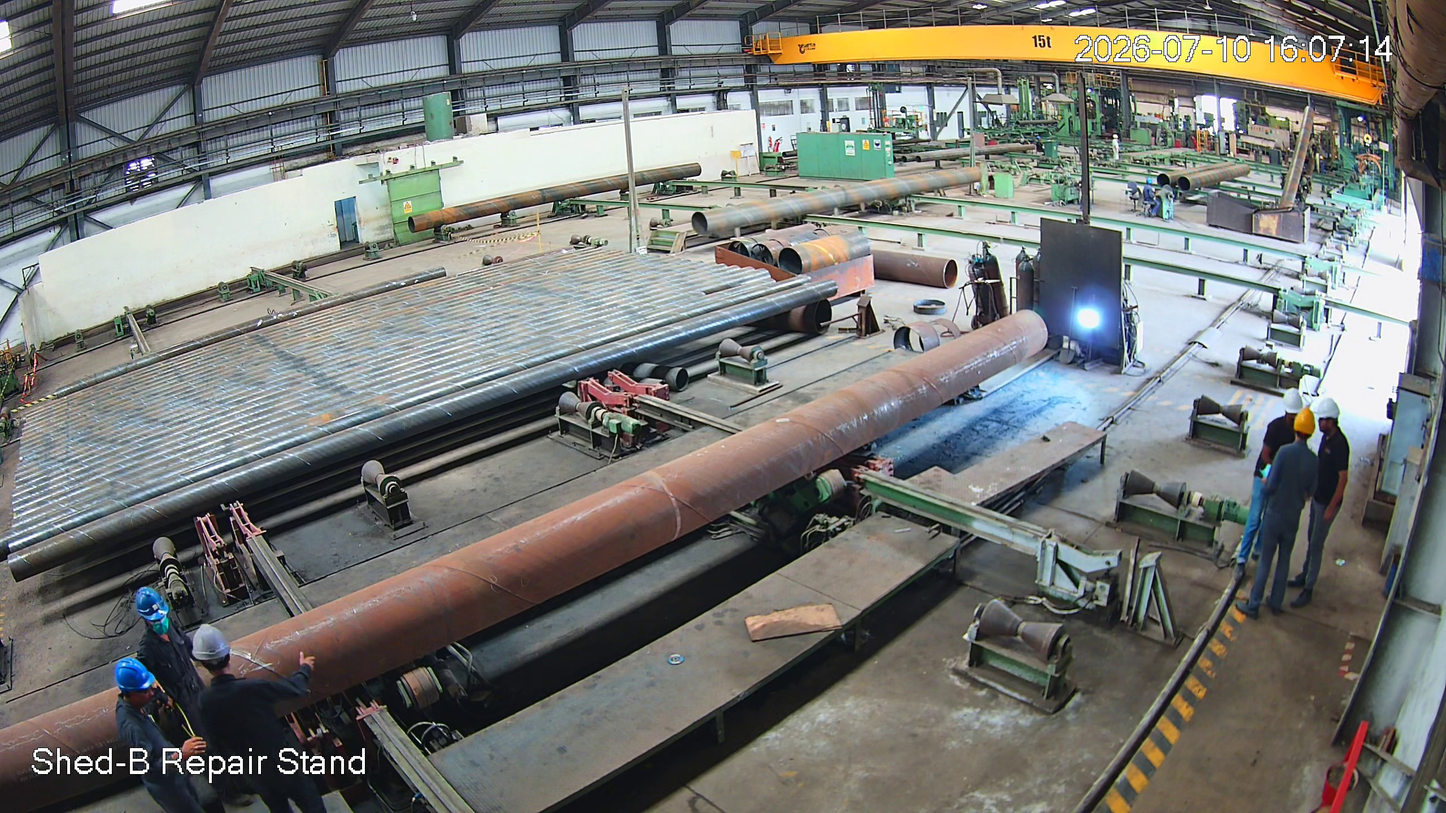Helmet: (117, 567, 189, 650), (187, 618, 257, 690), (102, 657, 171, 725), (1289, 400, 1335, 454), (1313, 388, 1354, 444)
Person: (190, 622, 358, 813), (117, 578, 218, 762), (107, 664, 216, 813), (1301, 391, 1359, 631), (1262, 408, 1322, 621)
